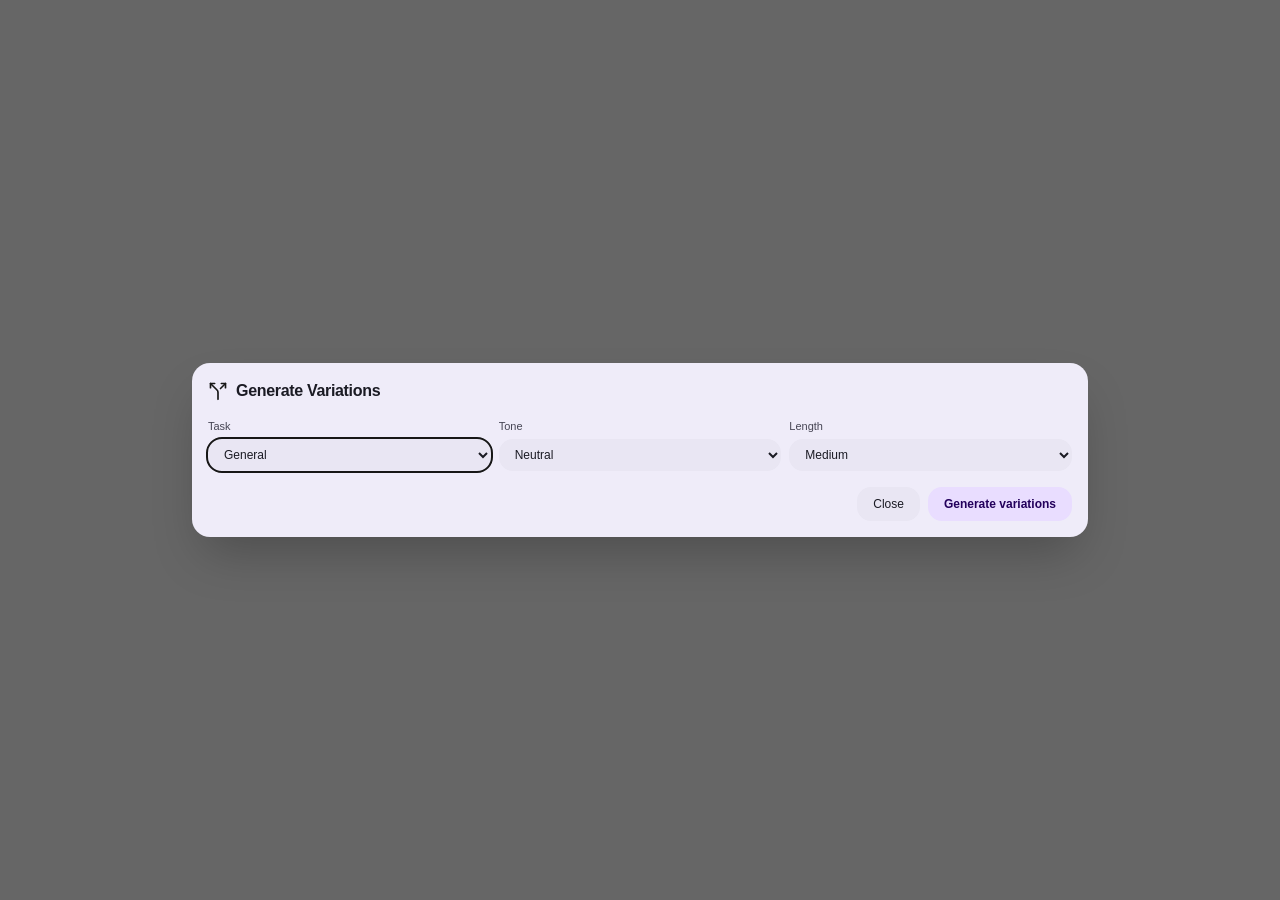
Test: VariationsDialog › shows one card per variation
Click the button "Generate variations": (1000,504) [928,487,1072,521]
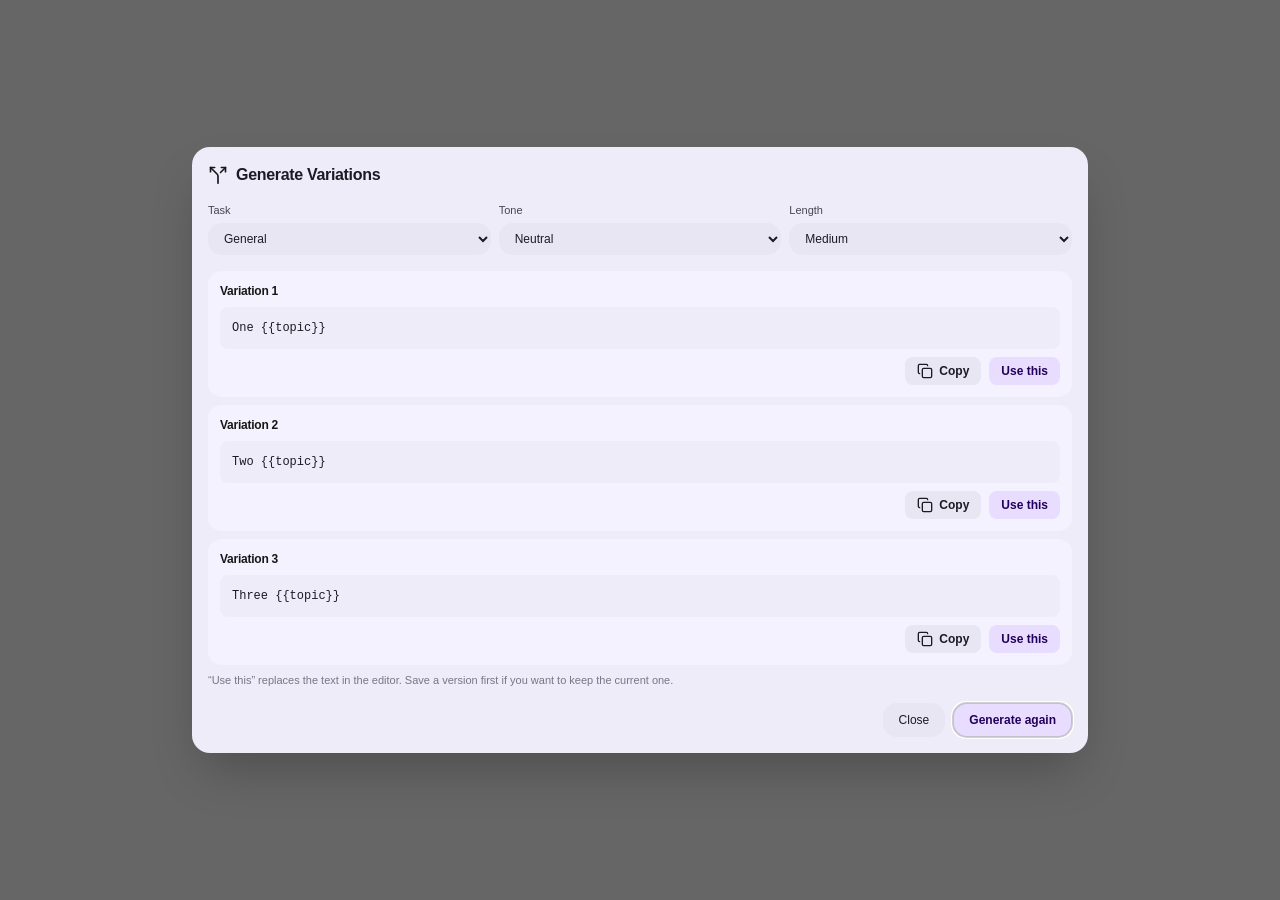
expect the number of list items is 3: met, box [208,271,1072,397]; [208,405,1072,531]; [208,539,1072,665]
expect the button with aria-label "Use variation 2" is shown: met, box [989,491,1060,519]
